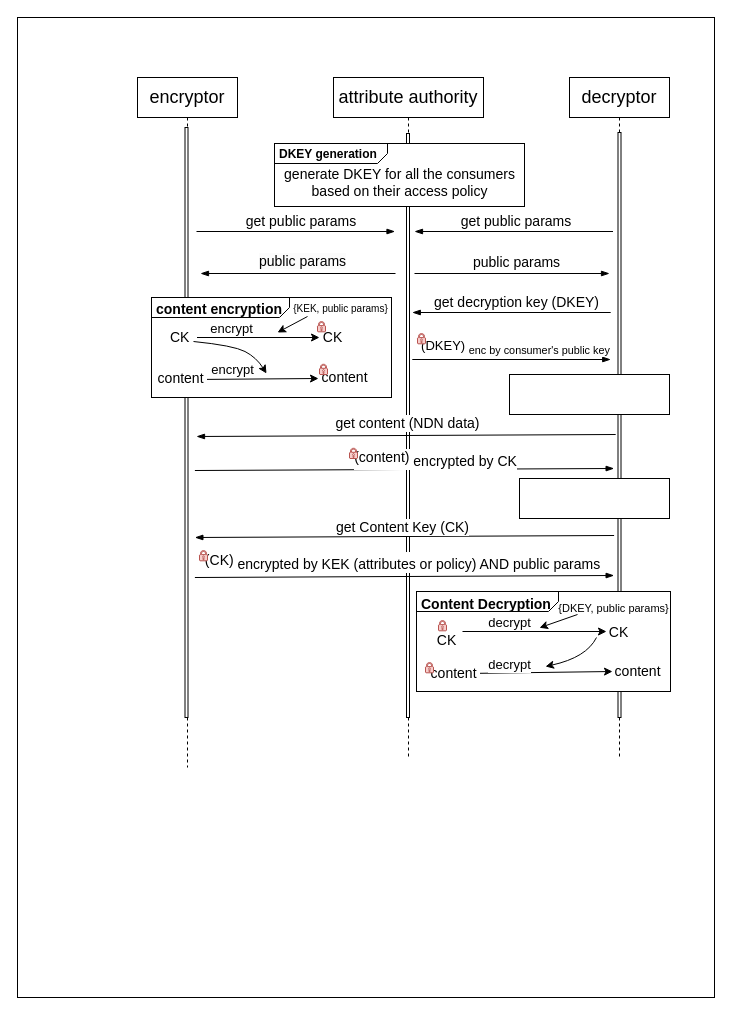
Image size: 732x1015. Some labels were removed from this diagram. Here are the shapes that lost their labels. From the top down, the centre of each, then its label:
(589,394): Decrypt DKEY using consumer's private key
(594,498): extract CK name from content data name
